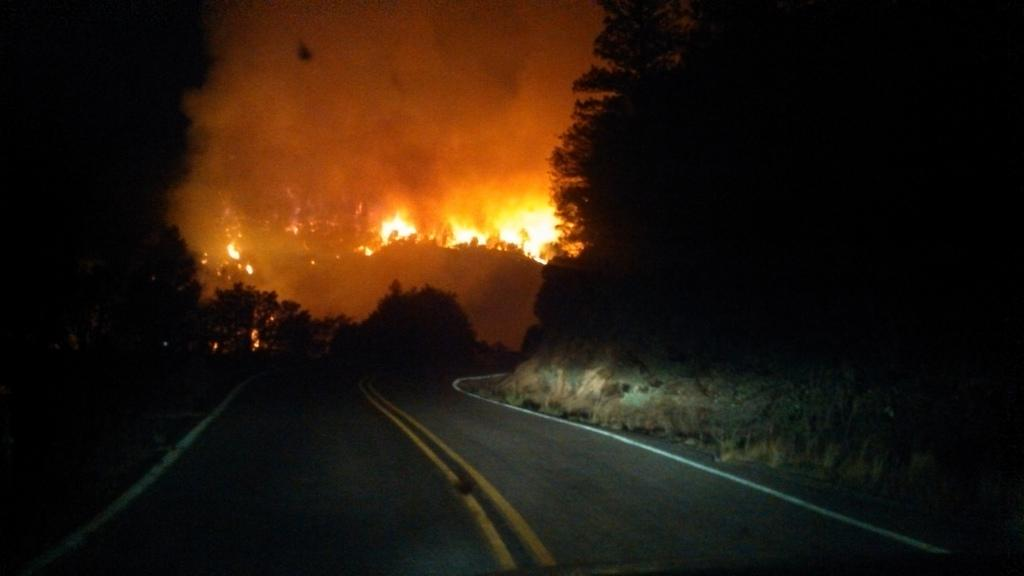fire: (381, 206, 556, 244)
